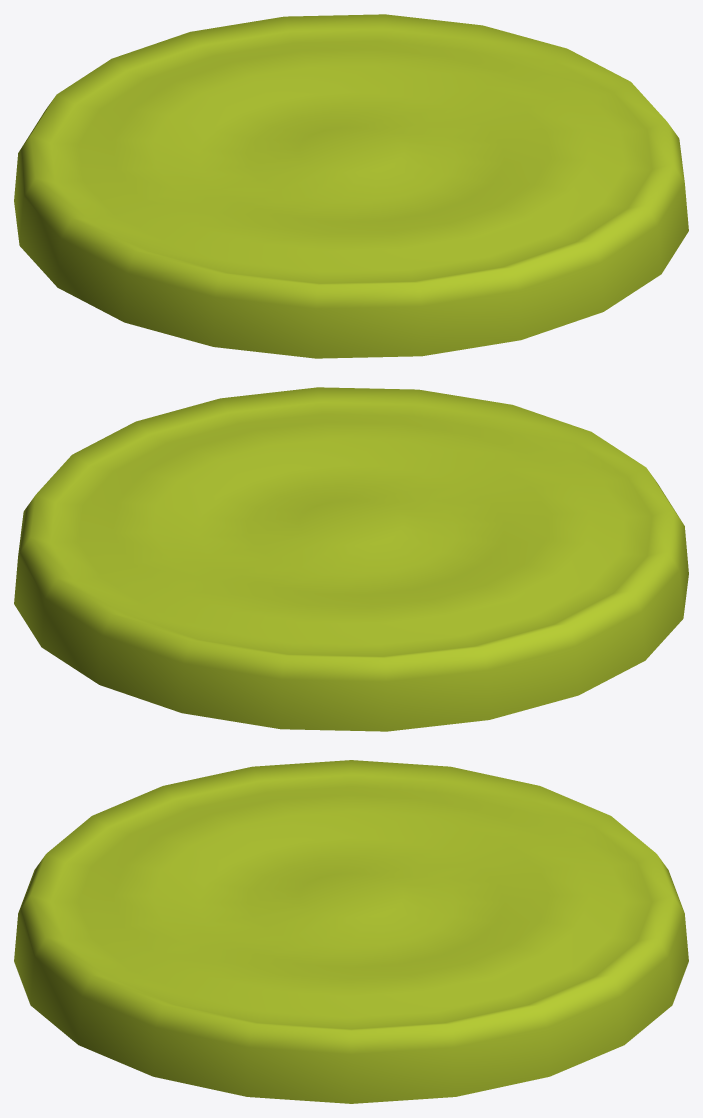
File: SM_Frisbee.fbx
The picture shows the model from 3 angles, top to bottom: view 1: azimuth 30°, elevation 25°; view 2: azimuth 150°, elevation 25°; view 3: azimuth 270°, elevation 25°; orthographic projection.
Parts seen in each view (by area): view 1: Frisbee; view 2: Frisbee; view 3: Frisbee.
Boxes of the visible parts, x1=… form: Frisbee: x1=14, y1=14, x2=688, y2=358; Frisbee: x1=14, y1=387, x2=688, y2=731; Frisbee: x1=14, y1=760, x2=688, y2=1103.
Bounding box in the file's own units: 2 × 0.2146 × 2.
